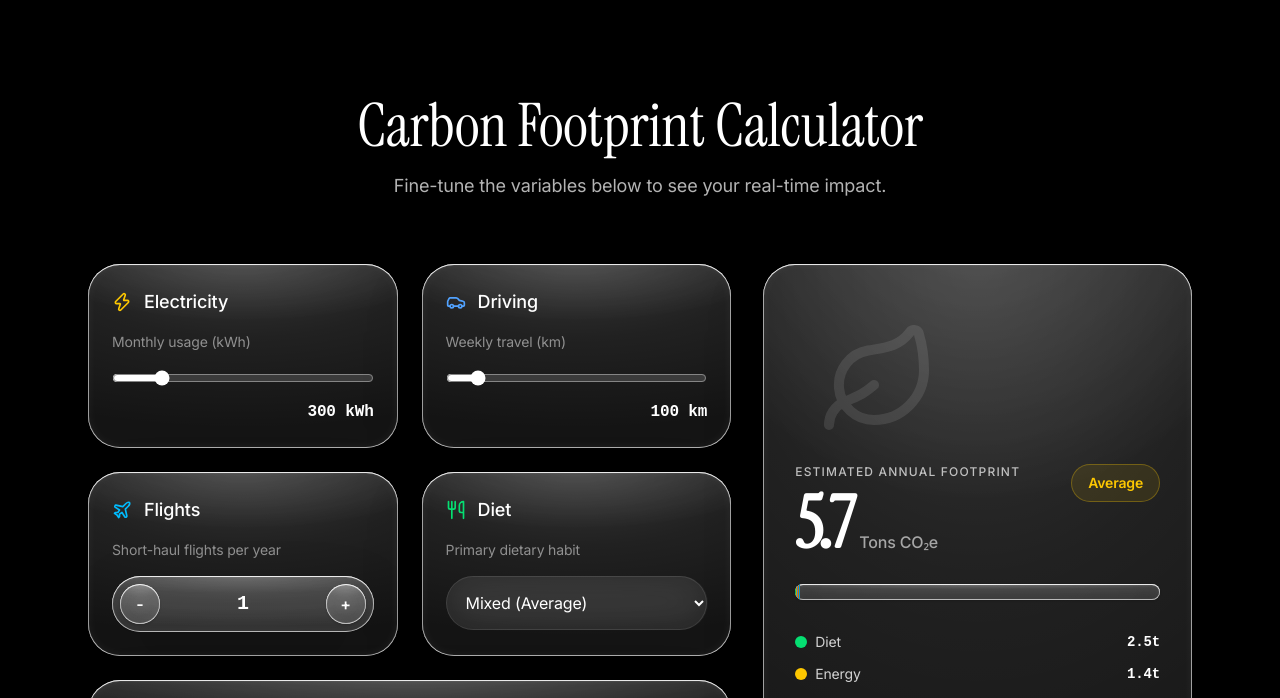
it: CarbonCalculator UI Component › updates flights when buttons are clicked
Expected: the text "1" is shown, top-left (237, 590), bottom-right (249, 618)
Click the button named "Increase flights": [346, 604] box top-left (326, 584), bottom-right (366, 624)
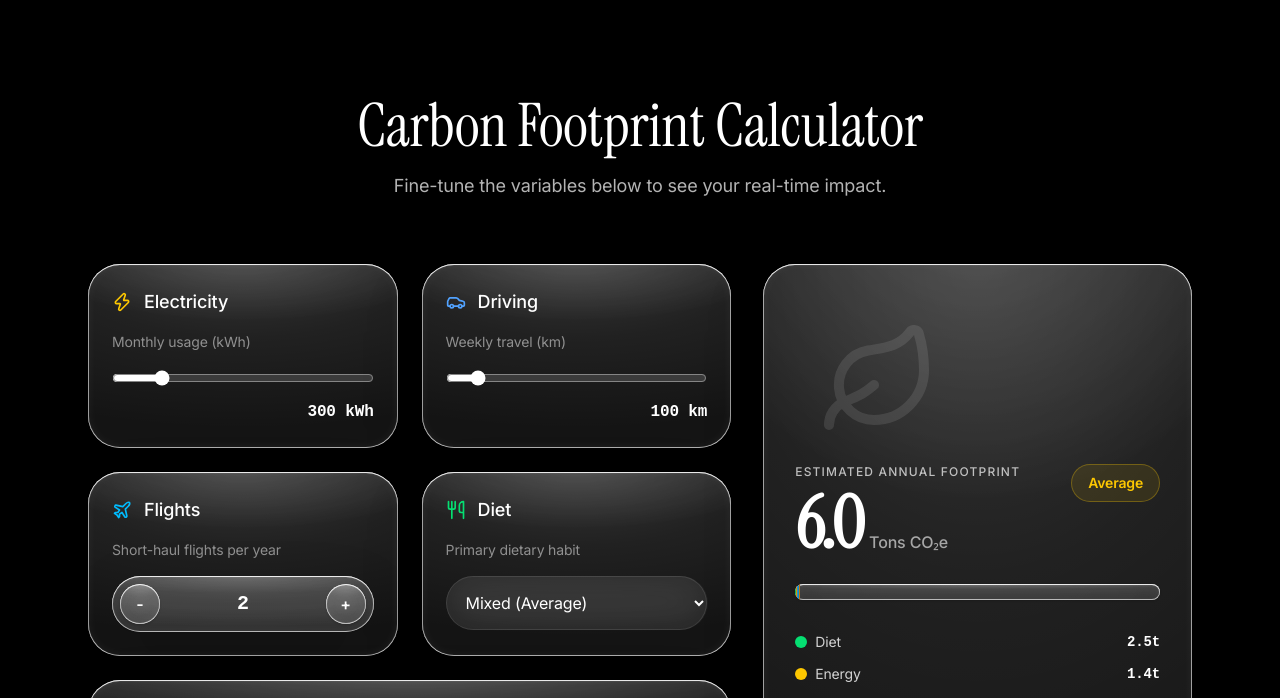
Now the text "2" is shown, box top-left (237, 590), bottom-right (249, 618)
